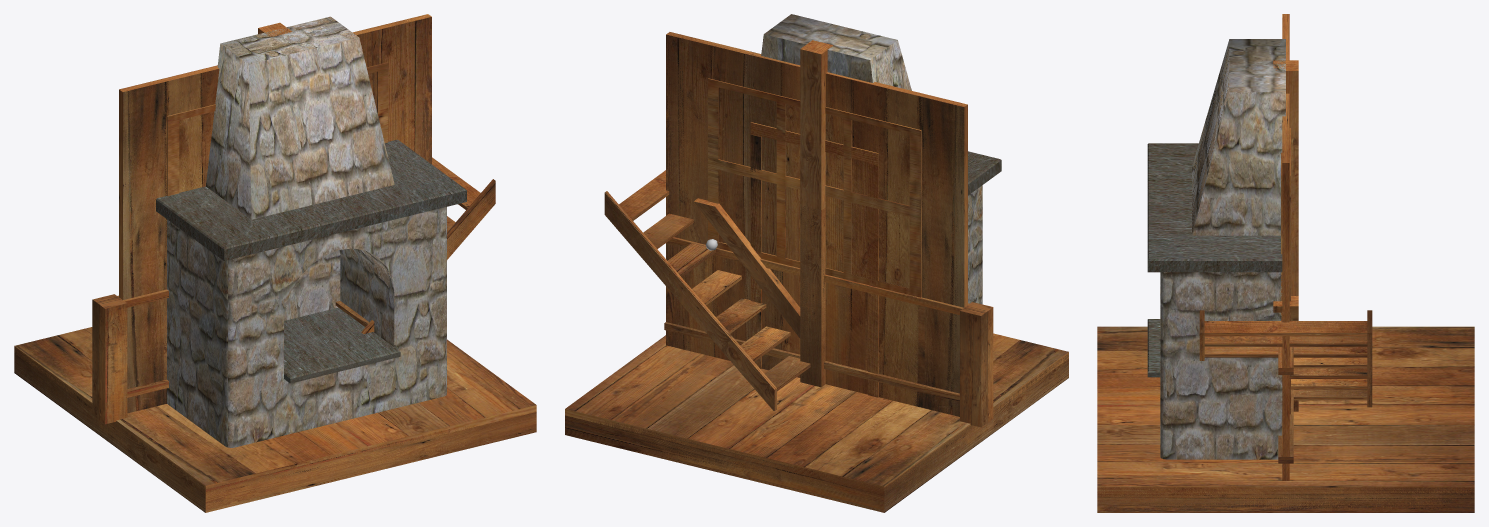
Rendered from ConstructionElements.fbx.
3 renders of one model, left to right at view 1: azimuth 30°, elevation 25°; view 2: azimuth 150°, elevation 25°; view 3: azimuth 270°, elevation 25°, orthographic. The views are drawn at different scales.
Parts seen in each view (by area): view 1: FirePlace, Floor, WallFull, WallWindow_5, Floor2, WallDoor_6, Frame, ColumnSmall_13, Stairs, Balustrade_2; view 2: WallDoor_6, WallFull, WallWindow_5, Floor, Stairs, Floor2, FirePlace, Column_3, Frame, Balustrade_2, ColumnSmall_13, ColumnHalf (+1 smaller); view 3: FirePlace, Floor, Stairs, Frame, Floor2, WallFull, Column_3, Balustrade_2, WallWindow_5.
Part boxes in pixels (<box>): FirePlace: <box>156,16,466,447</box>; Floor: <box>14,327,536,491</box>; WallFull: <box>119,15,431,413</box>; WallWindow_5: <box>123,62,431,412</box>; Floor2: <box>14,347,536,509</box>; WallDoor_6: <box>123,14,431,412</box>; Frame: <box>14,351,536,512</box>; ColumnSmall_13: <box>92,294,127,424</box>; Stairs: <box>335,157,495,334</box>; Balustrade_2: <box>117,289,168,397</box>; WallDoor_6: <box>666,34,964,416</box>; WallFull: <box>666,32,967,416</box>; WallWindow_5: <box>666,38,964,416</box>; Floor: <box>565,333,1068,490</box>; Stairs: <box>604,170,810,410</box>; Floor2: <box>565,353,1068,509</box>; FirePlace: <box>761,14,1001,304</box>; Column_3: <box>800,40,833,387</box>; Frame: <box>565,360,1068,512</box>; Balustrade_2: <box>664,237,969,401</box>; ColumnSmall_13: <box>960,302,993,427</box>; ColumnHalf: <box>800,206,825,384</box>; FirePlace: <box>1147,39,1285,459</box>; Floor: <box>1097,326,1474,492</box>; Stairs: <box>1199,310,1372,407</box>; Frame: <box>1097,487,1474,512</box>; Floor2: <box>1097,487,1474,509</box>; WallFull: <box>1282,14,1289,480</box>; Column_3: <box>1273,60,1298,409</box>; Balustrade_2: <box>1278,347,1293,463</box>; WallWindow_5: <box>1281,128,1290,320</box>.
Size of the model in its own units: 320 by 322 by 300.
